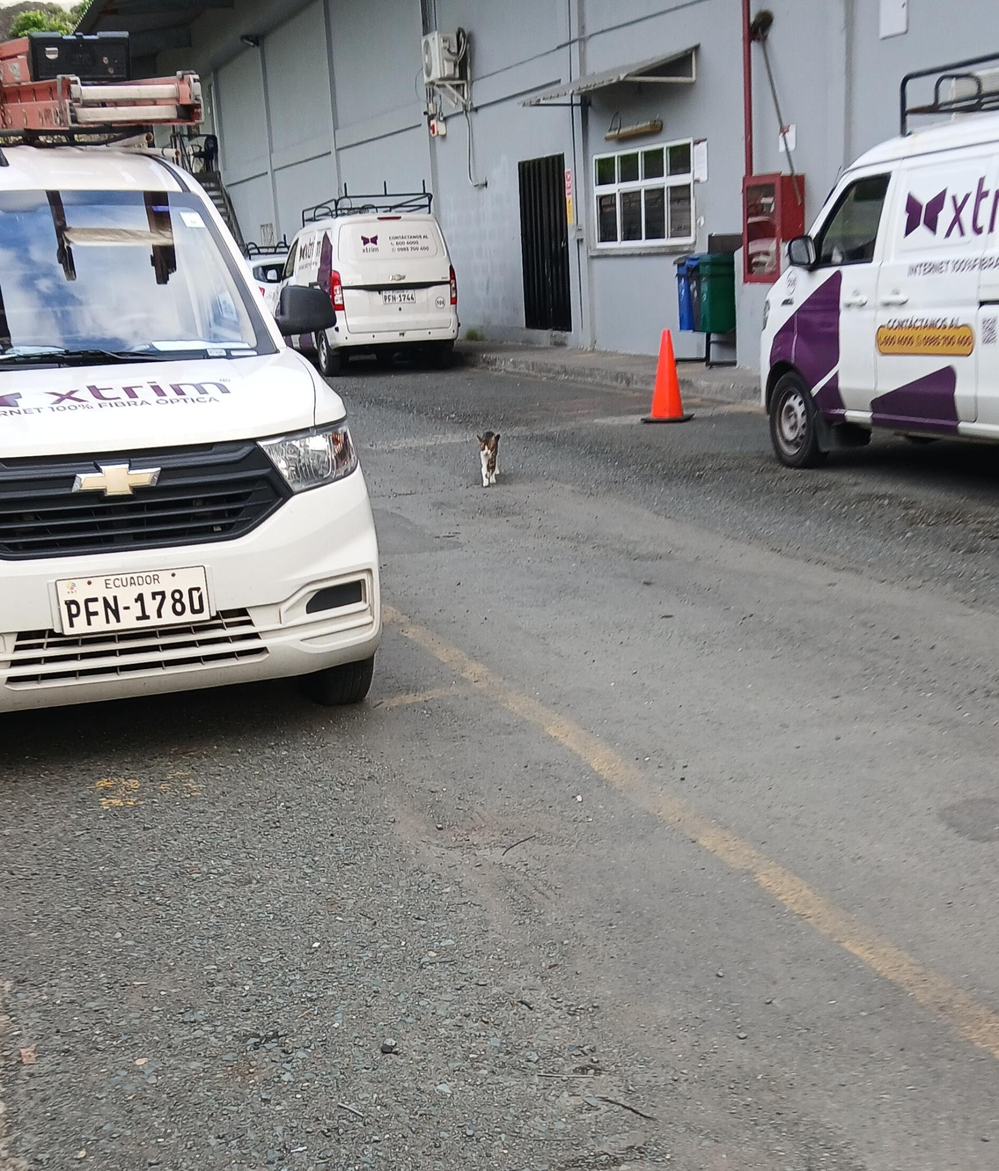license_plate: (53, 565, 216, 630), (379, 290, 415, 305)
